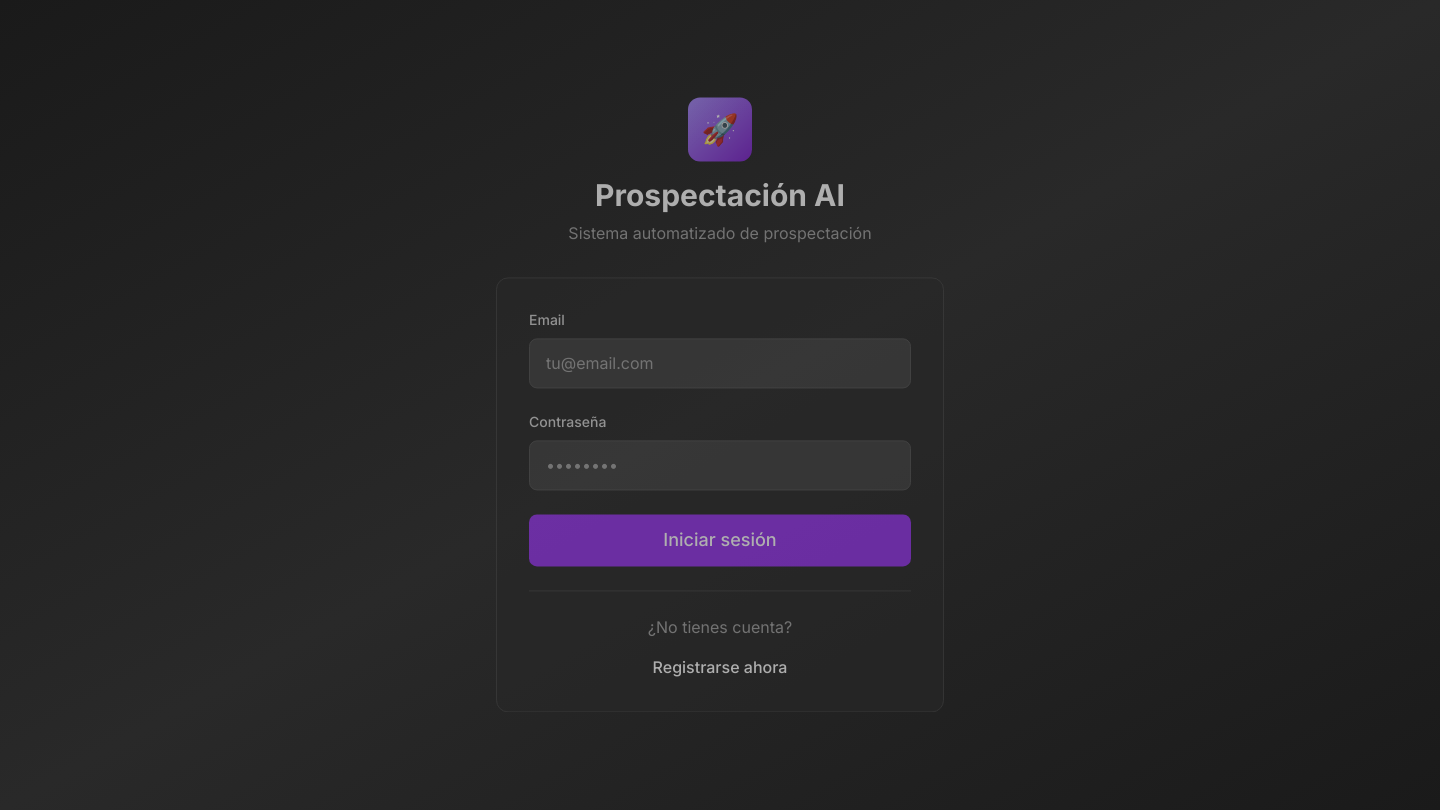
Test: LoginPage › displays an error when login fails
Type "wrong@example.com" into the field with placeholder "tu@email.com".
click(720, 363); type("wrong@example.com")  # box [529,338,911,388]
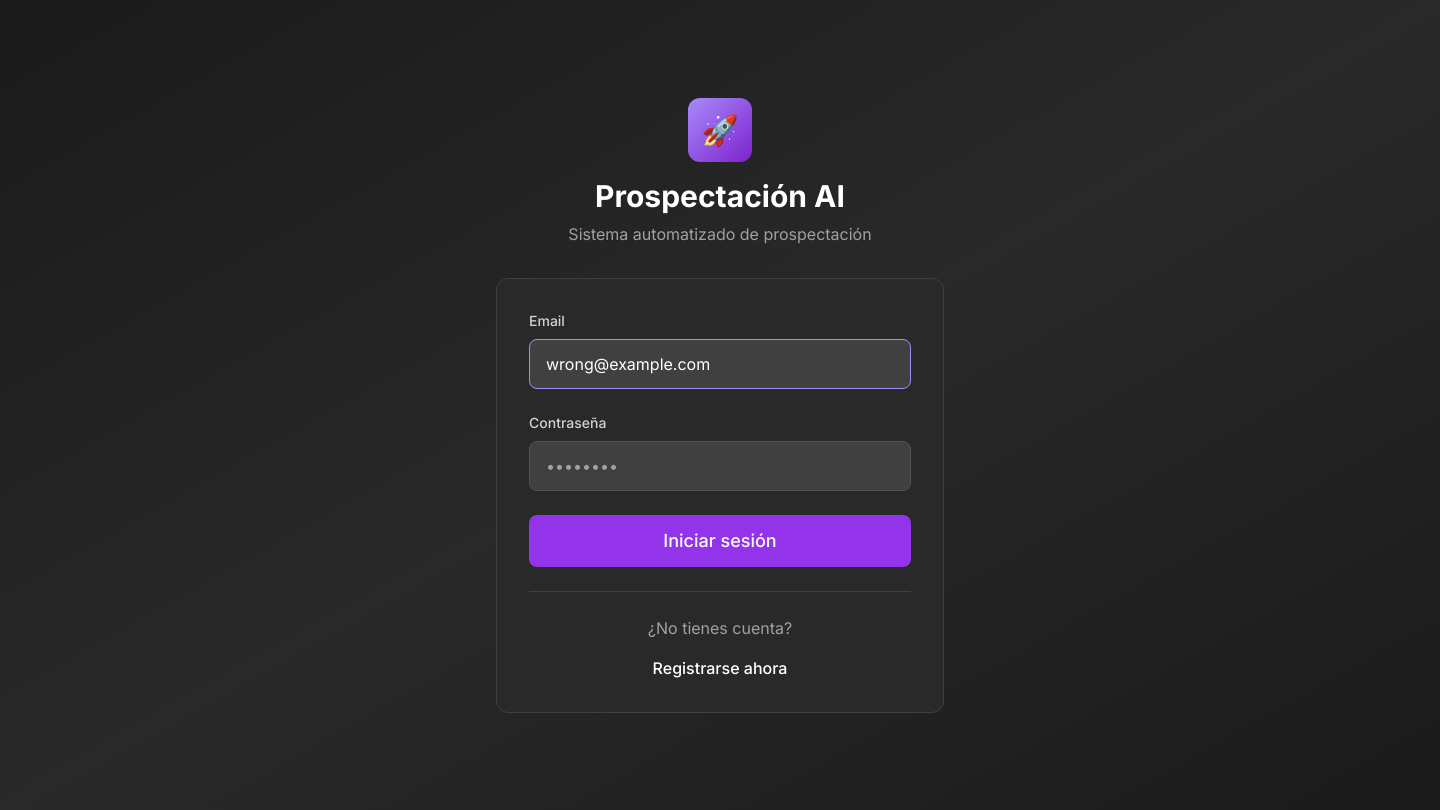
Type "wrongpass" into the password field with placeholder "••••••••".
click(720, 466); type("wrongpass")  # box [529,440,911,490]
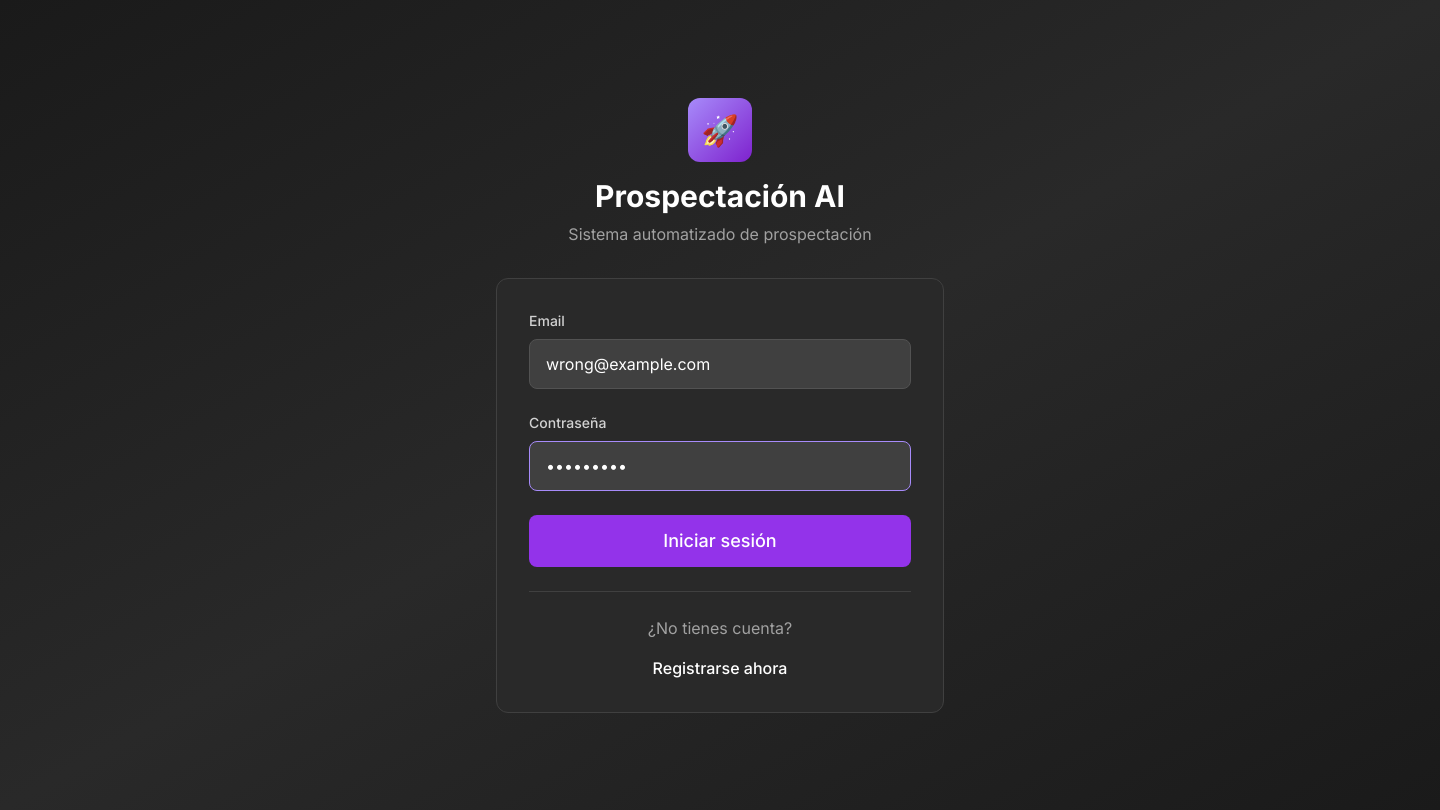
Click the button "Iniciar sesión".
click(720, 540)  # box [529,514,911,566]
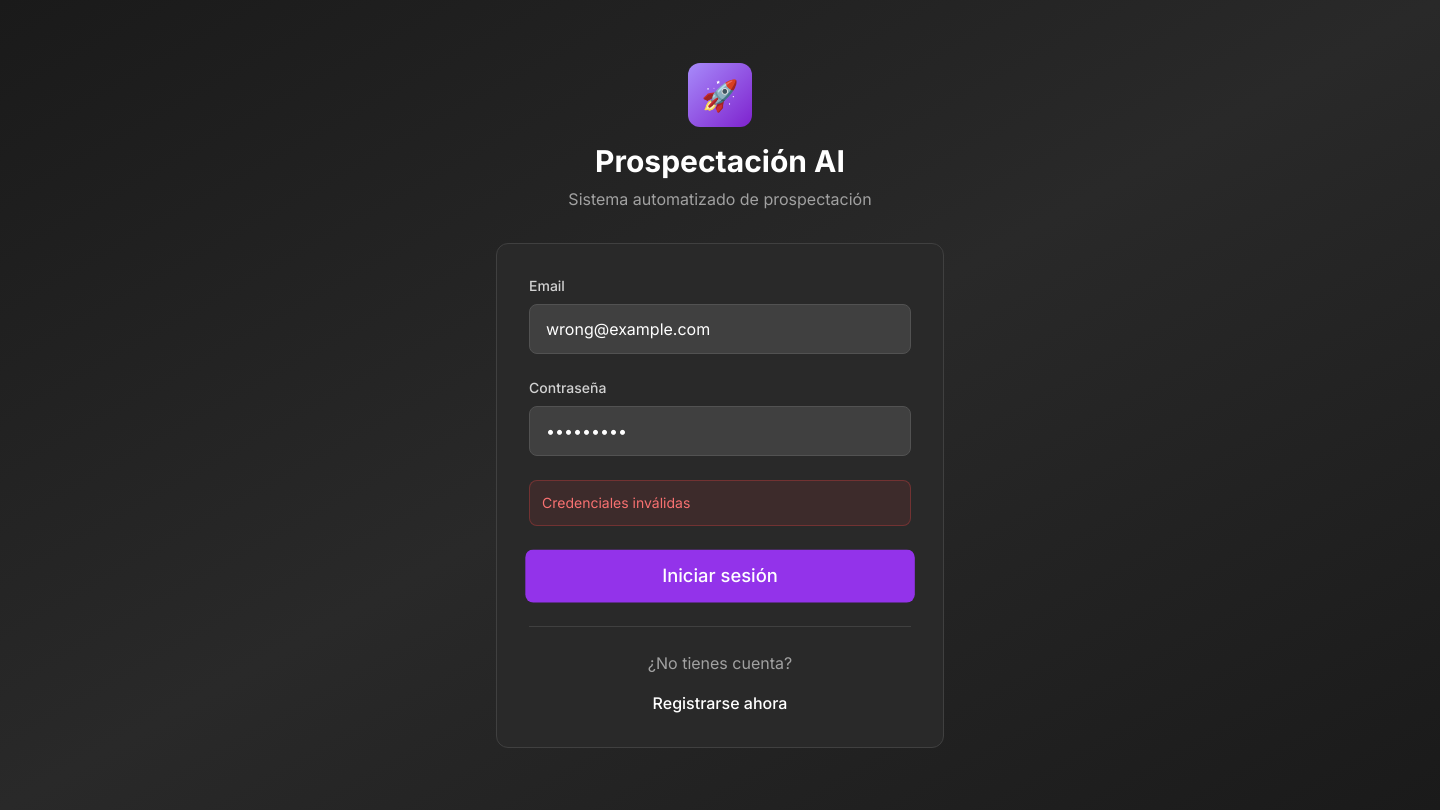
Now the text "Credenciales inválidas" is shown, box [529,480,911,526]
